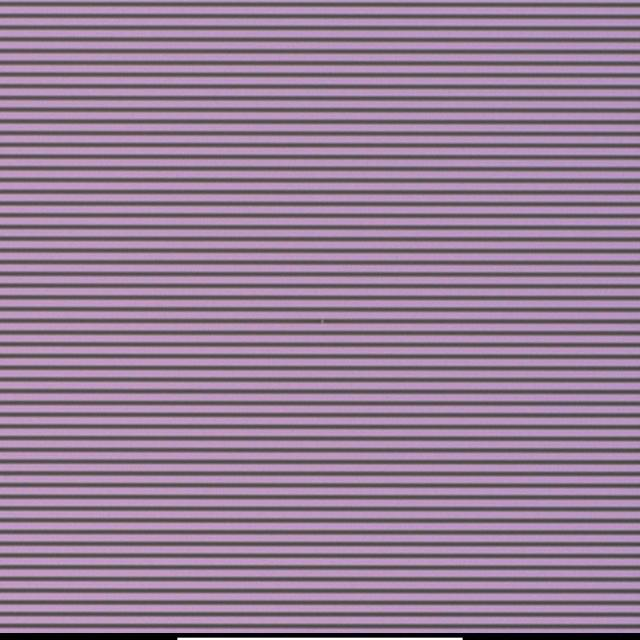03_intrusion: (316, 316, 328, 326)
